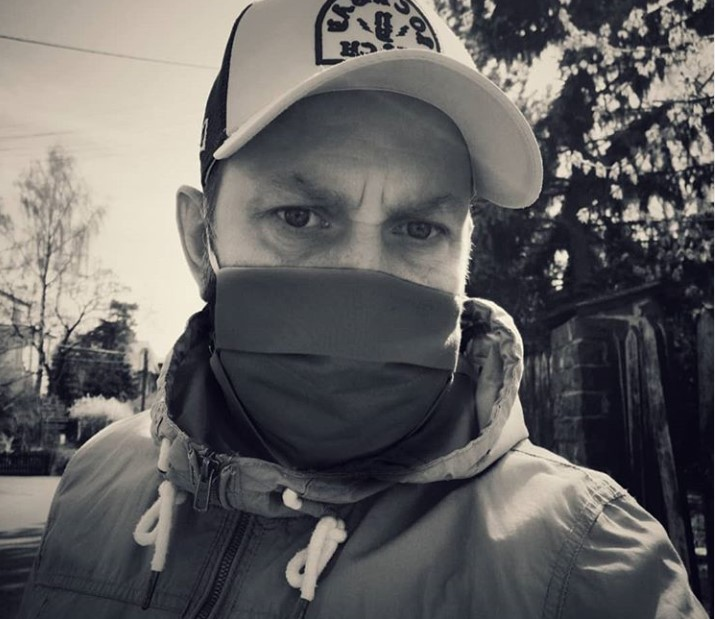face_with_mask: (174, 5, 546, 486)
